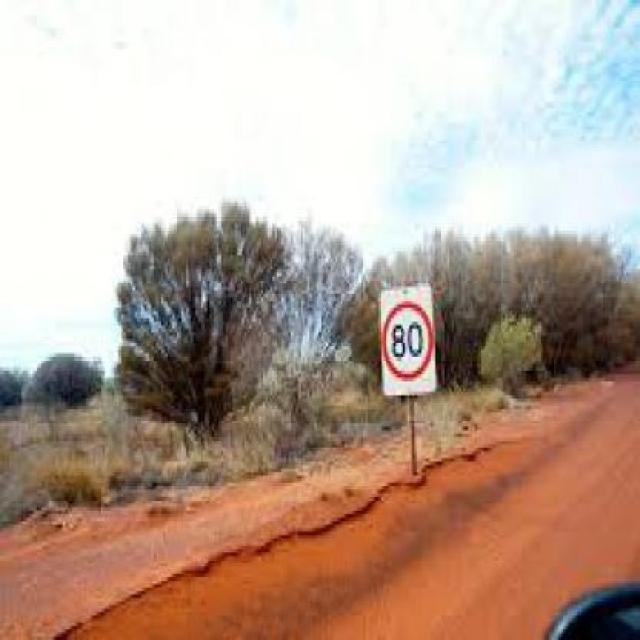forb_speed_over_80: (384, 301, 431, 376)
